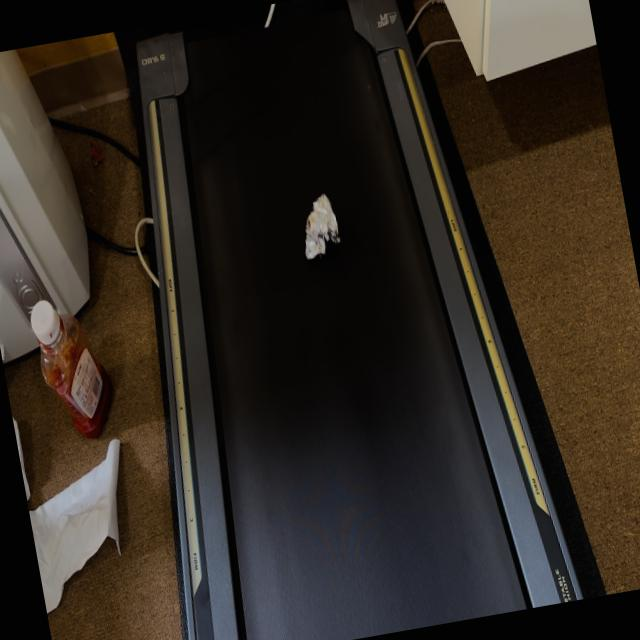Trash: (291, 186, 346, 264)
